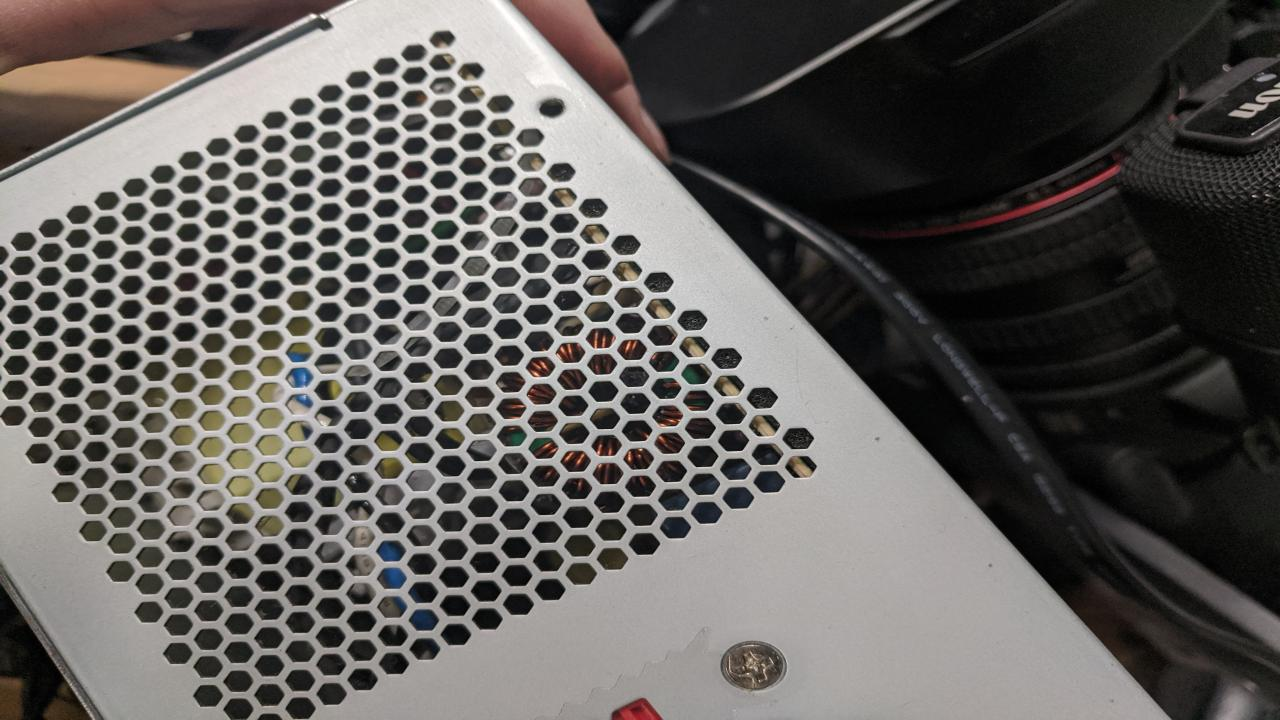CRS: (724, 643, 788, 689)
